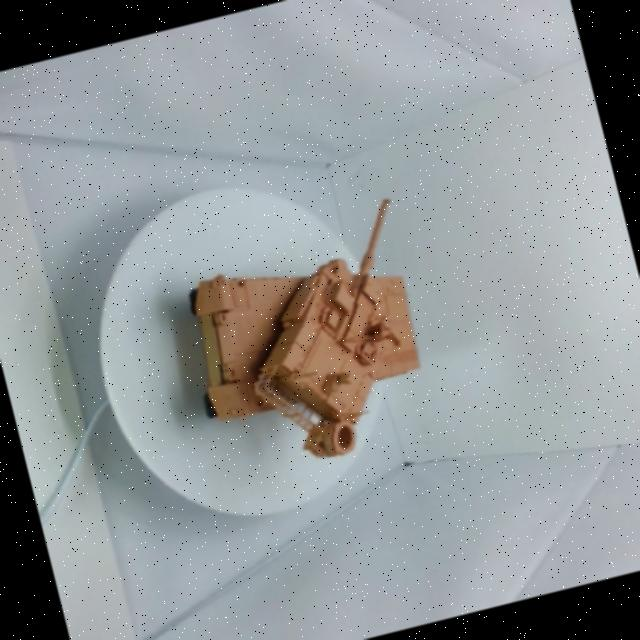korea tank: (130, 122, 494, 512)
